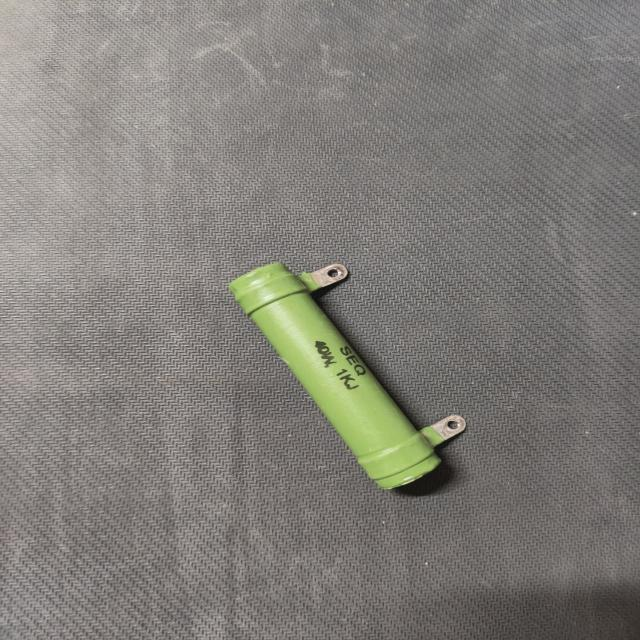resistor: (221, 249, 486, 502)
